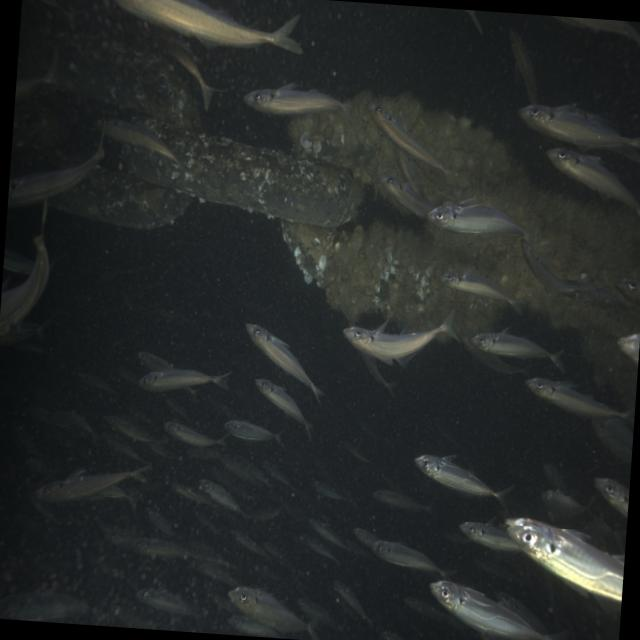ChainLink: (122, 118, 361, 226), (282, 220, 436, 328), (381, 94, 515, 199), (58, 34, 198, 127), (527, 189, 640, 288), (288, 91, 400, 185), (49, 166, 191, 229), (10, 85, 99, 179)
